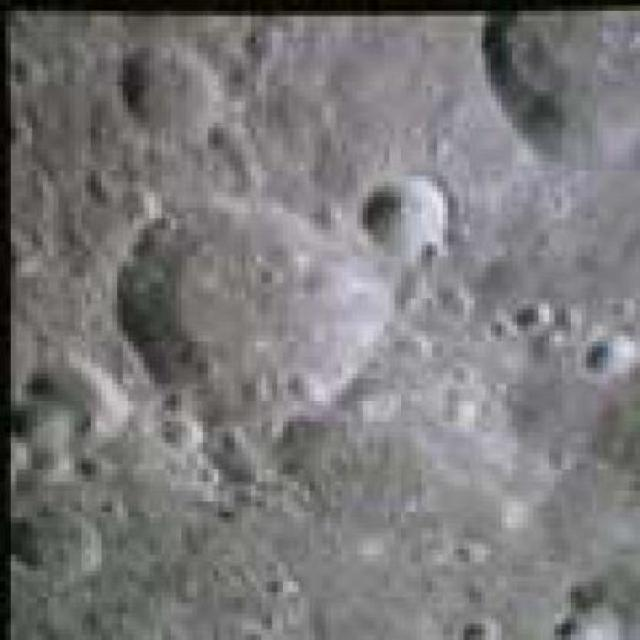crater: (114, 196, 414, 462), (483, 0, 639, 169), (123, 42, 223, 143), (357, 172, 445, 260)
